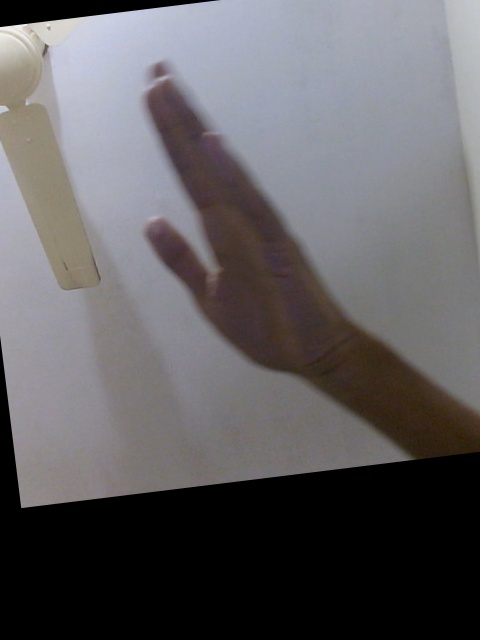hand: (128, 54, 356, 400)
